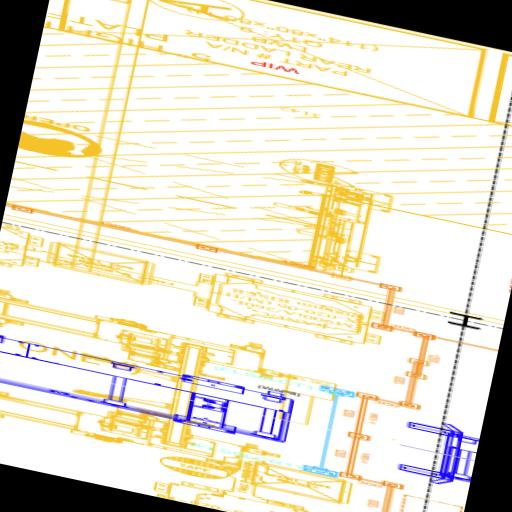robot: (0, 219, 409, 359)
